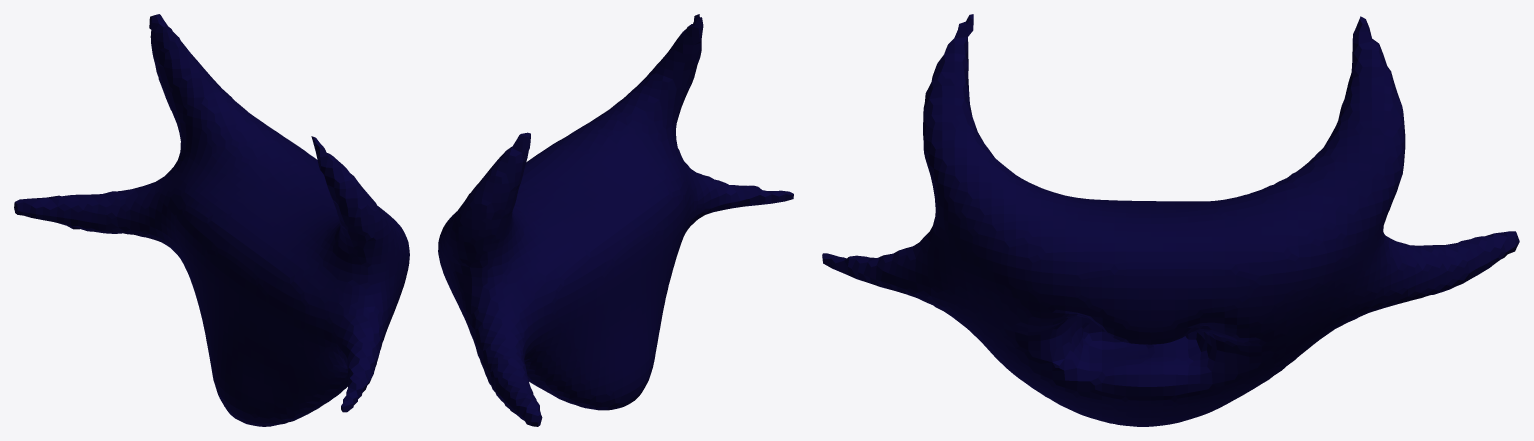
File: sss.fbx
3 views of the same model, side by side, from view 1: azimuth 30°, elevation 25°; view 2: azimuth 150°, elevation 25°; view 3: azimuth 270°, elevation 25° (orthographic). The views are drawn at different scales.
Visible parts, largest first — view 1: Куб; view 2: Куб; view 3: Куб.
Part boxes in pixels (left/top/right/bottom): Куб: left=14, top=14, right=409, bottom=426; Куб: left=438, top=14, right=793, bottom=426; Куб: left=822, top=14, right=1519, bottom=426.
Size of the model in its own units: 183 by 294 by 461.
